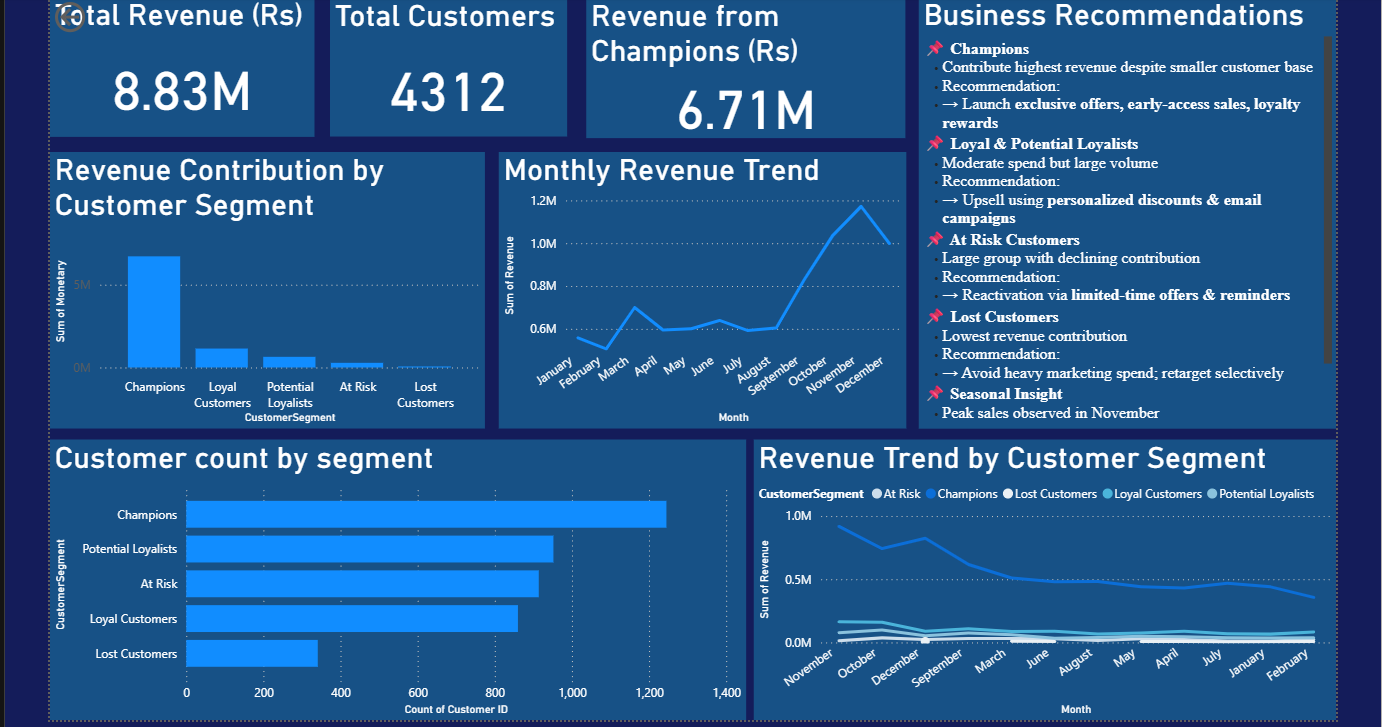

The page's visual inventory and layout, read from the dashboard file:
{"tool":"powerbi","page":{"name":"Page 1","canvas":[1280,720],"ordinal":0},"visuals":[{"type":"card","title":"Total Revenue (Rs)","fields":{"Values":["Sum(Fashion_retail_rfm_final.Monetary)"]},"box":[0,0,263.3,139.2],"z":0},{"type":"card","title":"Total Customers","fields":{"Values":["Count(Fashion_retail_rfm_final.Customer ID)"]},"box":[278.5,1.5,236.1,137.7],"z":1},{"type":"card","title":"Revenue from Champions (Rs)","fields":{"Values":["Sum(Fashion_retail_rfm_final.Monetary)"]},"box":[534.2,1.5,317.8,139.2],"z":2},{"type":"actionButton","box":[0,0,100,40],"z":3},{"type":"clusteredColumnChart","title":"Revenue Contribution by Customer Segment","fields":{"Category":["Fashion_retail_rfm_final.CustomerSegment"],"Y":["Sum(Fashion_retail_rfm_final.Monetary)"]},"box":[0,154.4,432.8,275.4],"z":4},{"type":"clusteredBarChart","title":"Customer count by segment","fields":{"Category":["Fashion_retail_rfm_final.CustomerSegment"],"Y":["CountNonNull(Fashion_retail_rfm_final.Customer ID)"]},"box":[0,440.4,693.1,280],"z":5},{"type":"lineChart","title":"Monthly Revenue Trend","fields":{"Category":["Fashion_retail_final.Month.Variation.Date Hierarchy.Month"],"Y":["Sum(Fashion_retail_final.Revenue)"]},"box":[447,154,405.3,275.2],"z":6},{"type":"lineChart","title":"Revenue Trend by Customer Segment","fields":{"Category":["Fashion_retail_final.Month.Variation.Date Hierarchy.Month"],"Y":["Sum(Fashion_retail_final.Revenue)"],"Series":["Fashion_retail_rfm_final.CustomerSegment"]},"box":[700.7,440.4,579.6,280],"z":7},{"type":"textbox","title":"Business Recommendations","box":[864.1,0,416.2,429.8],"z":8}]}

Visuals, with their boxes in screenshot pixels (x1, y1, x2, y2):
"Total Revenue (Rs)" card: [left=58, top=22, right=320, bottom=160]
"Total Customers" card: [left=335, top=23, right=570, bottom=160]
"Revenue from Champions (Rs)" card: [left=590, top=23, right=906, bottom=162]
actionButton: [left=58, top=22, right=157, bottom=61]
"Revenue Contribution by Customer Segment" clusteredColumnChart: [left=58, top=175, right=489, bottom=450]
"Customer count by segment" clusteredBarChart: [left=58, top=460, right=748, bottom=726]
"Monthly Revenue Trend" lineChart: [left=503, top=175, right=906, bottom=449]
"Revenue Trend by Customer Segment" lineChart: [left=755, top=460, right=1332, bottom=726]
"Business Recommendations" textbox: [left=918, top=22, right=1332, bottom=450]
